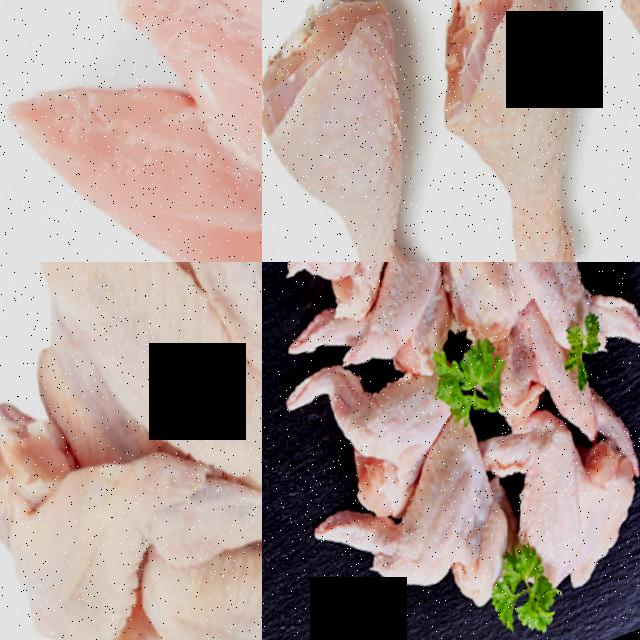chicken breast: (0, 27, 262, 262), (145, 0, 262, 135)
chicken thigh: (380, 0, 640, 262), (262, 0, 489, 262)
chicken wing: (0, 310, 262, 640), (300, 418, 536, 640), (474, 405, 640, 630), (274, 262, 481, 426), (449, 262, 640, 416), (262, 262, 430, 319)
